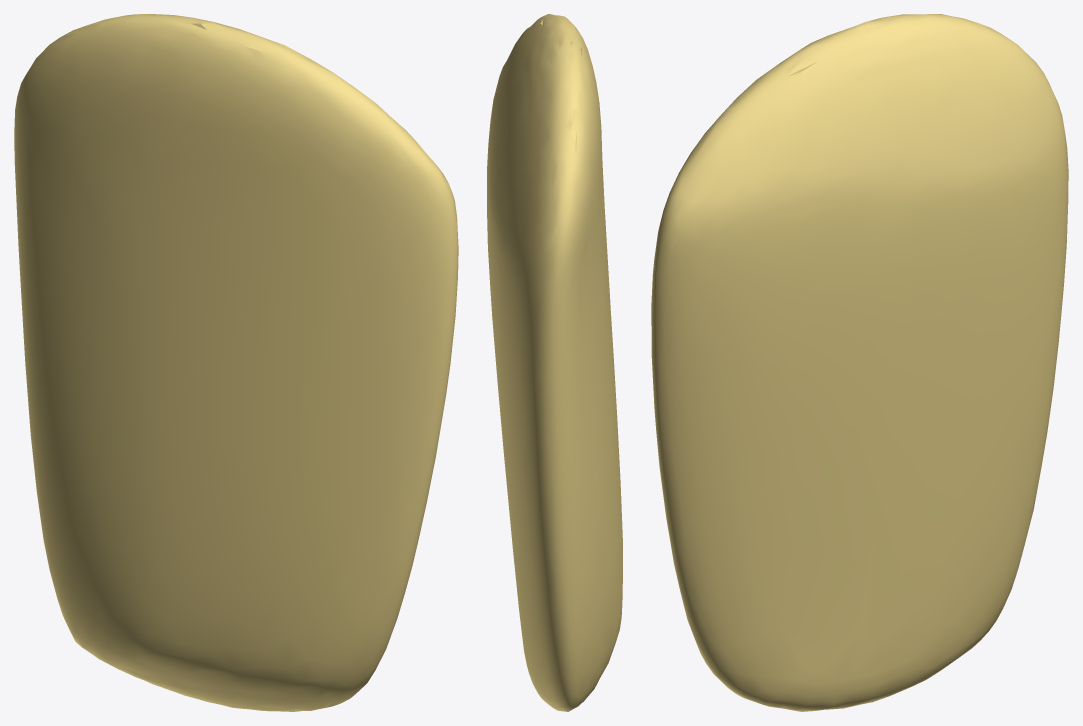
The model's file is fma73333_fj7484m.glb.
3 renders of one model, left to right at view 1: azimuth 30°, elevation 25°; view 2: azimuth 150°, elevation 25°; view 3: azimuth 270°, elevation 25°, orthographic. The views are drawn at different scales.
Visible parts, largest first — view 1: FMA73333_FJ7484M; view 2: FMA73333_FJ7484M; view 3: FMA73333_FJ7484M.
Boxes of the visible parts, <box> form: FMA73333_FJ7484M: <box>14,14,458,711</box>; FMA73333_FJ7484M: <box>487,14,622,711</box>; FMA73333_FJ7484M: <box>651,14,1068,711</box>.
Size of the model in its own units: 0.00229 by 0.006 by 0.00339.
